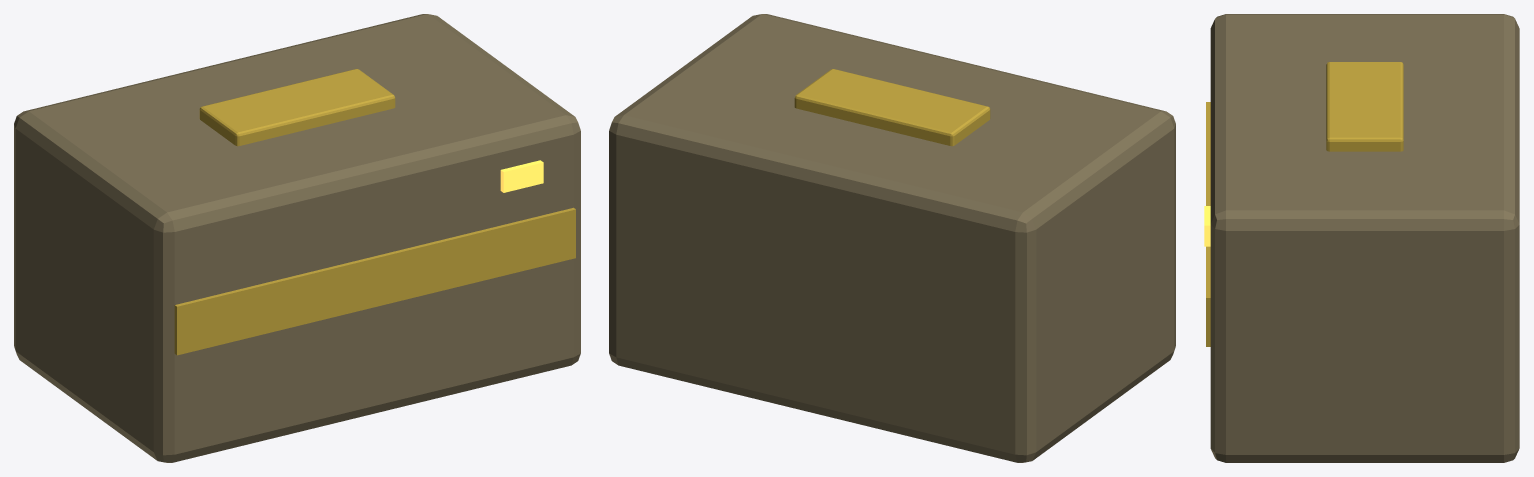
Rendered from loot_ammo.glb.
The picture shows the model from 3 angles, left to right: view 1: azimuth 30°, elevation 25°; view 2: azimuth 150°, elevation 25°; view 3: azimuth 270°, elevation 25°; orthographic projection.
Parts seen in each view (by area): view 1: Cube, Cube.001, Cube.002, Cube.003; view 2: Cube, Cube.002; view 3: Cube, Cube.002, Cube.001.
Boxes of the visible parts, x1=… form: Cube: x1=14, y1=14, x2=580, y2=462; Cube.001: x1=174, y1=207, x2=575, y2=355; Cube.002: x1=199, y1=69, x2=395, y2=146; Cube.003: x1=500, y1=160, x2=543, y2=192; Cube: x1=609, y1=14, x2=1175, y2=462; Cube.002: x1=794, y1=69, x2=990, y2=146; Cube: x1=1210, y1=14, x2=1519, y2=462; Cube.002: x1=1326, y1=62, x2=1403, y2=151; Cube.001: x1=1206, y1=102, x2=1210, y2=346.
Bounding box in the file's own units: 0.32 × 0.189 × 0.204.
